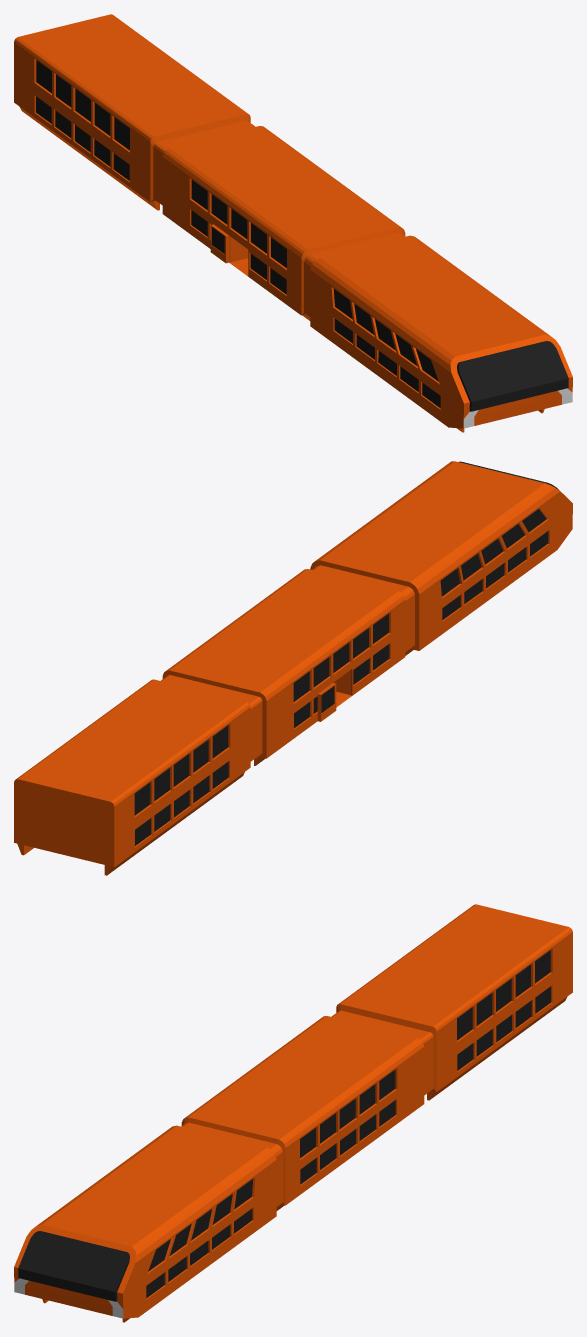
File: train.fbx
3 views of the same model, one above another, from view 1: azimuth 30°, elevation 25°; view 2: azimuth 150°, elevation 25°; view 3: azimuth 330°, elevation 25° (orthographic).
Parts seen in each view (by area): view 1: train; view 2: train; view 3: train.
Part boxes in pixels (x1,y1,x2,y2): train: (14, 14, 572, 432); train: (14, 461, 572, 875); train: (14, 904, 572, 1322).
Bounding box in the file's own units: 798 × 528 × 5747.
